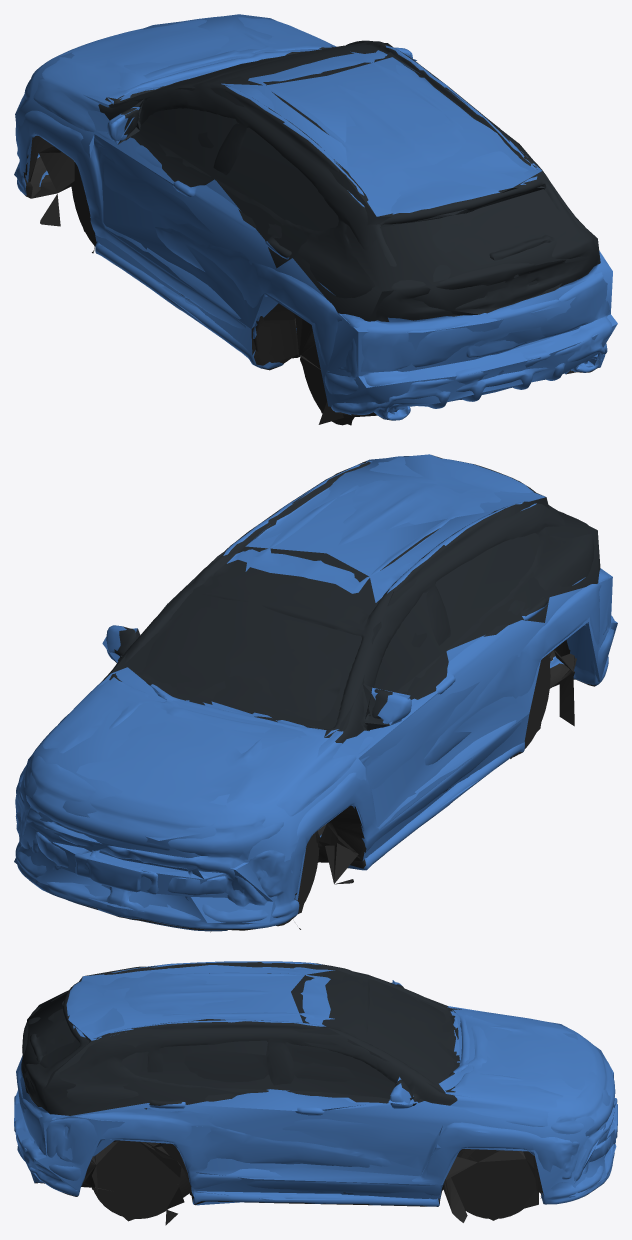
File: hyundai-kona.glb
The picture shows the model from 3 angles, top to bottom: view 1: azimuth 30°, elevation 25°; view 2: azimuth 150°, elevation 25°; view 3: azimuth 270°, elevation 25°; orthographic projection. The views are drawn at different scales.
Parts seen in each view (by area): view 1: body, far; view 2: body, far; view 3: body, far.
Boxes of the visible parts, box(x1,y1,x2,y2) form: body: box(15, 16, 612, 425); far: box(14, 14, 617, 425); body: box(15, 456, 614, 931); far: box(14, 454, 617, 932); body: box(14, 961, 617, 1225); far: box(14, 963, 616, 1221).
Bounding box in the file's own units: 1.98 × 1.58 × 4.41.
